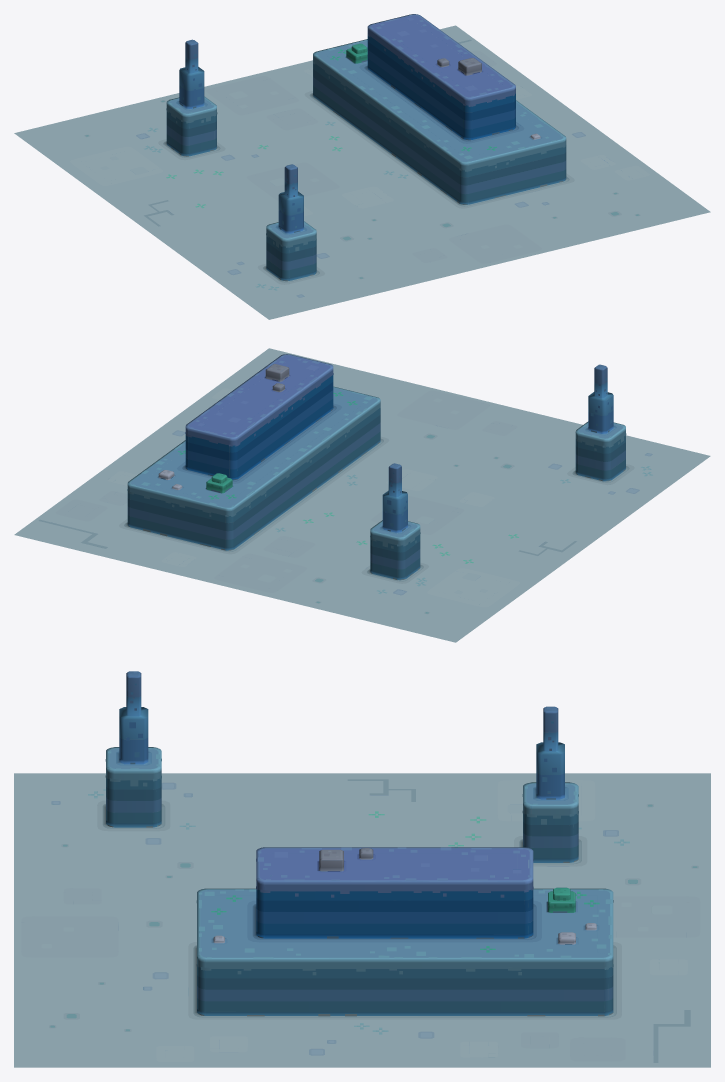
File: C_mountain2_04.fbx
3 views of the same model, one above another, from view 1: azimuth 30°, elevation 25°; view 2: azimuth 150°, elevation 25°; view 3: azimuth 270°, elevation 25° (orthographic). The views are drawn at different scales.
Visible parts, largest first — view 1: C_mountain2_04; view 2: C_mountain2_04; view 3: C_mountain2_04.
Boxes of the visible parts, x1,y1,x2,y2 form: C_mountain2_04: [14, 14, 710, 319]; C_mountain2_04: [14, 348, 710, 642]; C_mountain2_04: [14, 671, 710, 1067].
Size of the model in its own units: 50 by 11.39 by 50.
Materials: 1 (1 with a texture image).
